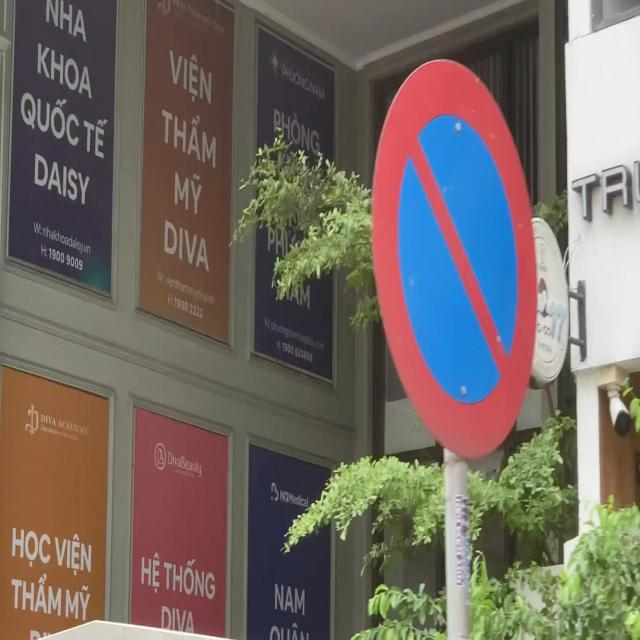Cam do: (371, 57, 538, 461)
